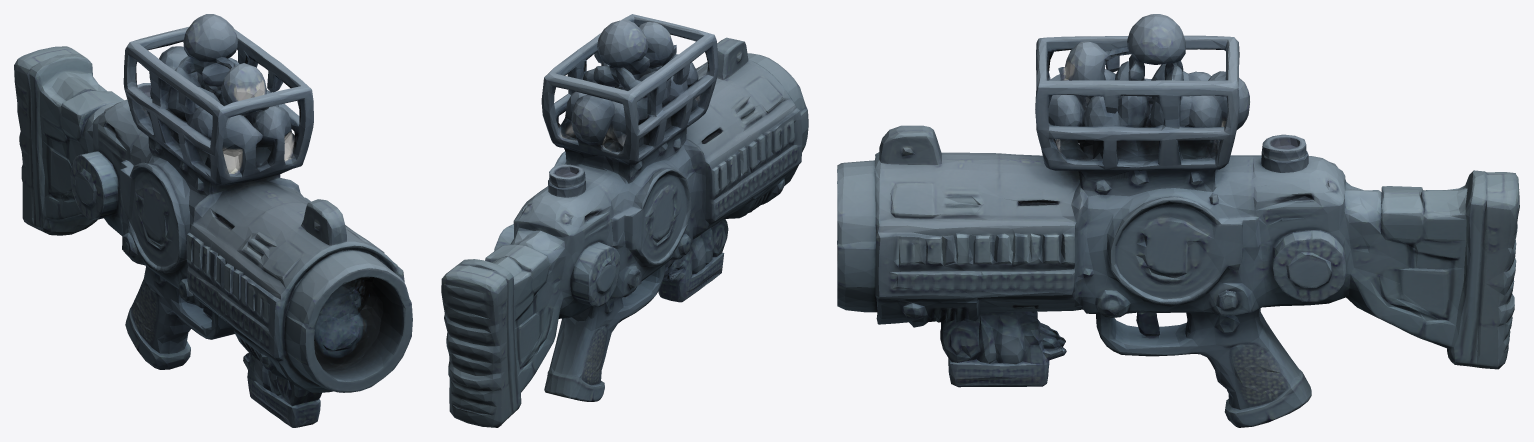
File: Weapon_LGun.glb
The picture shows the model from 3 angles, left to right: view 1: azimuth 30°, elevation 25°; view 2: azimuth 150°, elevation 25°; view 3: azimuth 270°, elevation 25°; orthographic projection. The views are drawn at different scales.
Visible parts, largest first — view 1: world; view 2: world; view 3: world.
Boxes of the visible parts, x1,y1,x2,y2 form: world: (14,14,412,427); world: (441,14,808,427); world: (837,14,1519,427).
Bounding box in the file's own units: 0.2408 × 0.6548 × 0.9964.
1 material, 1 textured.
